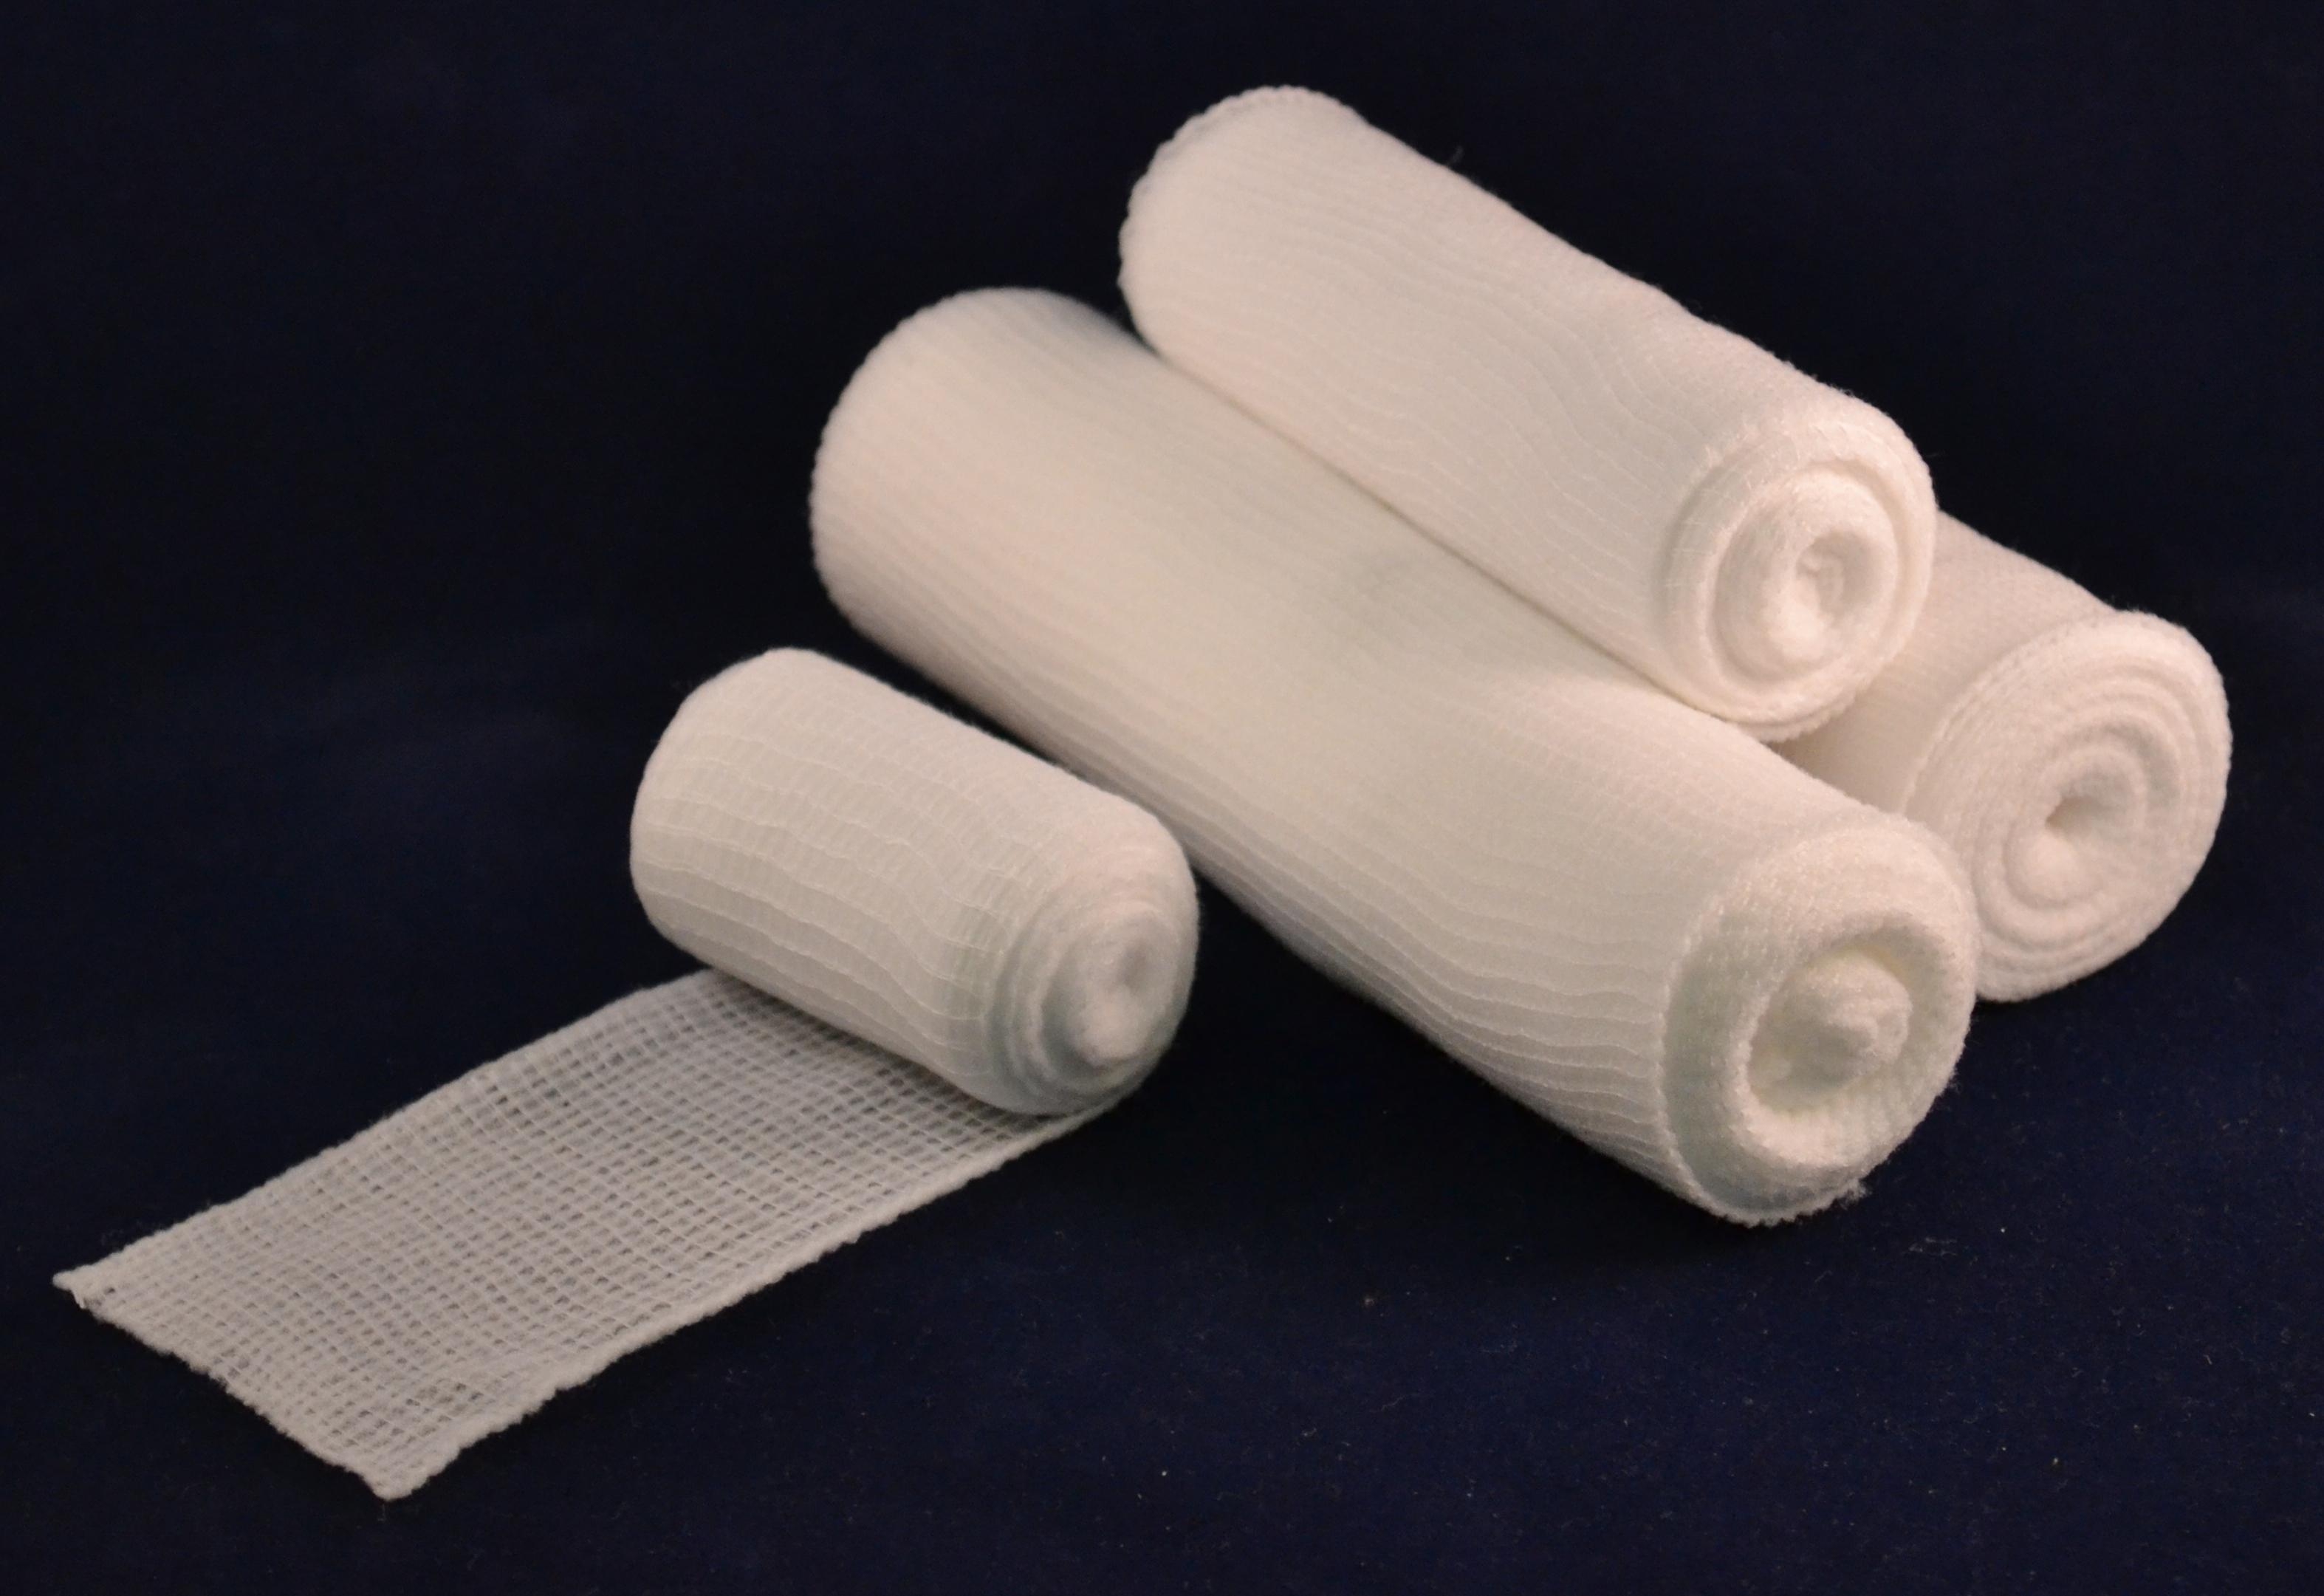bandage: (802, 281, 1969, 1227), (58, 646, 1204, 1504), (1360, 337, 2246, 1008), (1120, 90, 1935, 727)
